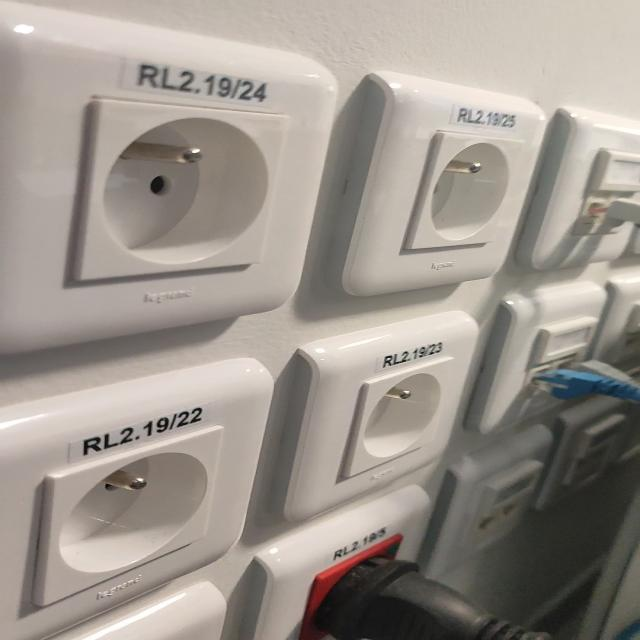house plug: (77, 99, 287, 280), (41, 426, 222, 606), (406, 128, 526, 250), (345, 357, 452, 479)
